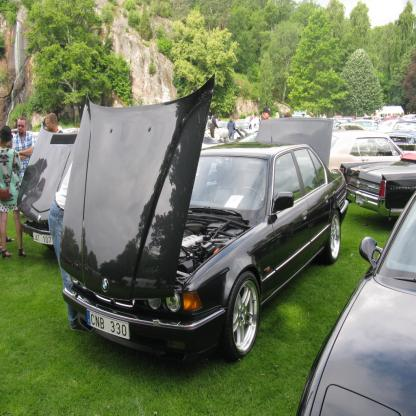Car: (21, 70, 416, 416)
